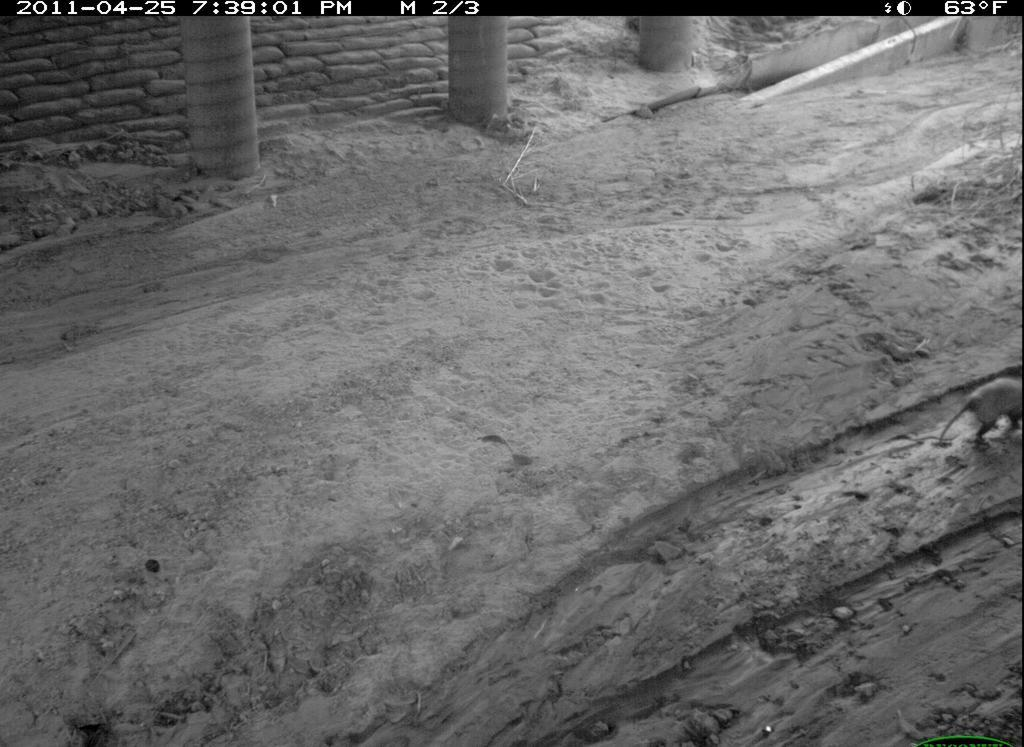opossum: (939, 367, 1023, 459)
